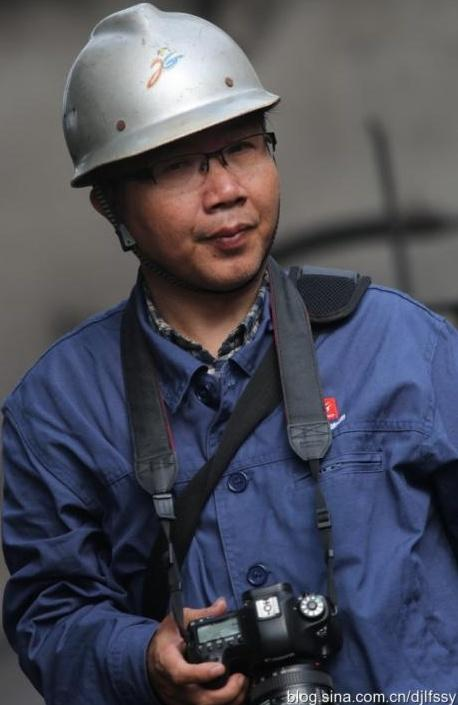boots: (61, 0, 282, 186)
hard-hat: (61, 0, 281, 186)
vest: (0, 254, 457, 704)
